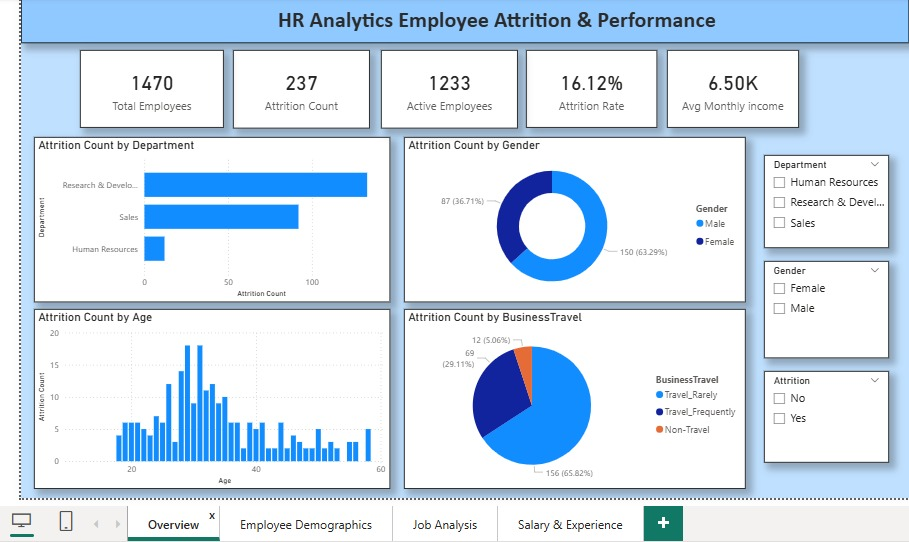

Layout of this report page (visuals, bound fields, positions):
{"tool":"powerbi","page":{"name":"Overview","canvas":[1280,720],"ordinal":0},"visuals":[{"type":"textbox","box":[0,0,1279.2,64.8],"z":0},{"type":"card","fields":{"Values":["Dax Measures.Attrition Count"]},"box":[305.4,74.8,197.2,112.9],"z":1000},{"type":"card","fields":{"Values":["Dax Measures.Attrition Rate"]},"box":[727.2,74.9,188.6,112.3],"z":2000},{"type":"card","fields":{"Values":["Dax Measures.Total Employees"]},"box":[85,74.9,207.4,112.3],"z":3000},{"type":"card","fields":{"Values":["Dax Measures.Avg Monthly income"]},"box":[930.2,74.9,190.1,112.3],"z":4000},{"type":"clusteredBarChart","fields":{"Y":["Dax Measures.Attrition Count"],"Category":["HR Data.Department"]},"box":[18.7,200.2,512.6,237.6],"z":5000},{"type":"donutChart","fields":{"Category":["HR Data.Gender"],"Y":["Dax Measures.Attrition Count"]},"box":[551.5,200.2,492.5,237.6],"z":6000},{"type":"clusteredColumnChart","fields":{"Category":["HR Data.Age"],"Y":["Dax Measures.Attrition Count"]},"box":[18.7,447.8,512.6,259.2],"z":7000},{"type":"pieChart","fields":{"Category":["HR Data.BusinessTravel"],"Y":["Dax Measures.Attrition Count"]},"box":[551.5,447.8,492.5,259.2],"z":8000},{"type":"card","fields":{"Values":["Dax Measures.Active Employees"]},"box":[518.5,74.8,197.2,112.9],"z":9000},{"type":"slicer","fields":{"Values":["HR Data.Department"]},"box":[1070.5,225.9,179.7,133.6],"z":10000},{"type":"slicer","fields":{"Values":["HR Data.Gender"]},"box":[1070.5,378.6,179.7,140],"z":11000},{"type":"slicer","fields":{"Values":["HR Data.Attrition"]},"box":[1070.5,537.6,179.7,132],"z":12000}]}

Visuals, with their boxes on the page's 1280x720 design canvas (x1, y1, x2, y2). These are canvas units, not pixel positions in the 909x542 screenshot, which may show the page scaled, cropped or inside an application window:
textbox: <box>0,0,1279,65</box>
card - Dax Measures.Attrition Count: <box>305,75,503,188</box>
card - Dax Measures.Attrition Rate: <box>727,75,916,187</box>
card - Dax Measures.Total Employees: <box>85,75,292,187</box>
card - Dax Measures.Avg Monthly income: <box>930,75,1120,187</box>
clusteredBarChart - Dax Measures.Attrition Count x HR Data.Department: <box>19,200,531,438</box>
donutChart - HR Data.Gender x Dax Measures.Attrition Count: <box>552,200,1044,438</box>
clusteredColumnChart - HR Data.Age x Dax Measures.Attrition Count: <box>19,448,531,707</box>
pieChart - HR Data.BusinessTravel x Dax Measures.Attrition Count: <box>552,448,1044,707</box>
card - Dax Measures.Active Employees: <box>518,75,716,188</box>
slicer - HR Data.Department: <box>1070,226,1250,360</box>
slicer - HR Data.Gender: <box>1070,379,1250,519</box>
slicer - HR Data.Attrition: <box>1070,538,1250,670</box>
